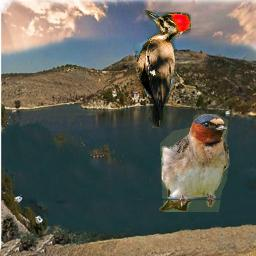Swallow: (159, 114, 231, 212)
Woodpecker: (131, 10, 191, 128)
